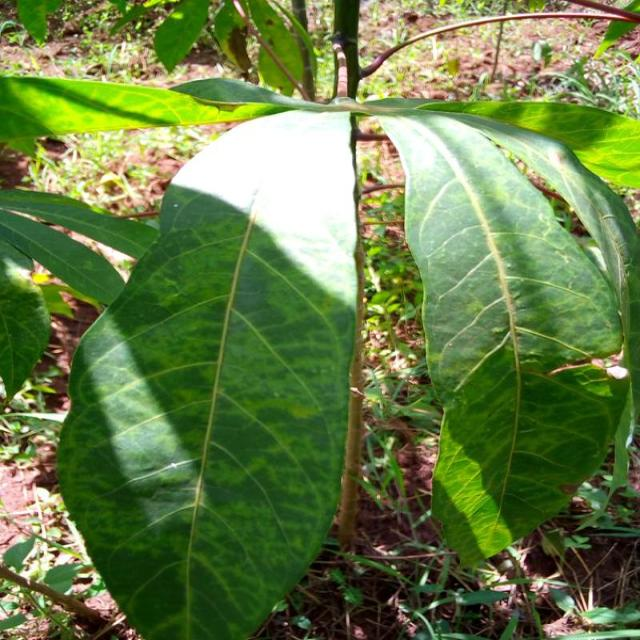cassava leaf: (54, 105, 360, 638), (368, 102, 638, 570)
